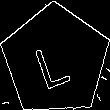L_N: (33, 31, 78, 89)
